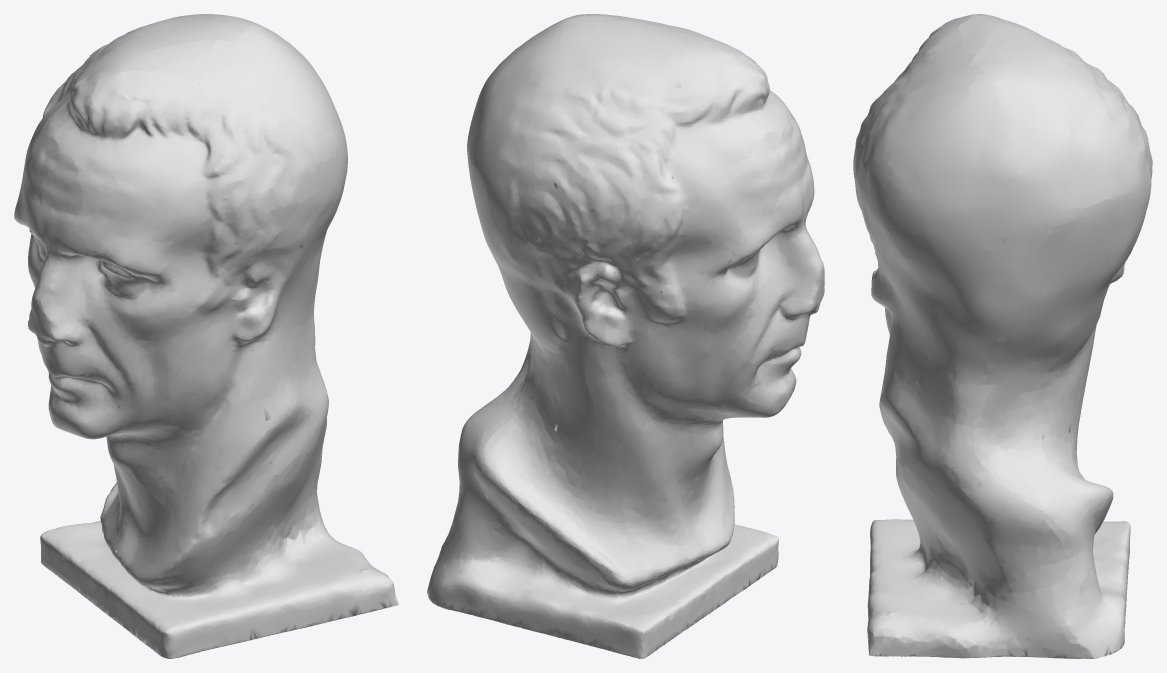
The model's file is roman-bust.glb.
The picture shows the model from 3 angles, left to right: view 1: azimuth 30°, elevation 25°; view 2: azimuth 150°, elevation 25°; view 3: azimuth 270°, elevation 25°; orthographic projection. The views are drawn at different scales.
Visible parts, largest first — view 1: Optimized_Joined_NO_MATERIAL; view 2: Optimized_Joined_NO_MATERIAL; view 3: Optimized_Joined_NO_MATERIAL.
Part boxes in pixels (bbox=[...]): Optimized_Joined_NO_MATERIAL: bbox=[14, 14, 398, 658]; Optimized_Joined_NO_MATERIAL: bbox=[427, 14, 824, 658]; Optimized_Joined_NO_MATERIAL: bbox=[853, 14, 1152, 658].
Bounding box in the file's own units: 79.8 × 130 × 65.18.
Materials: 1 (1 with a texture image).
